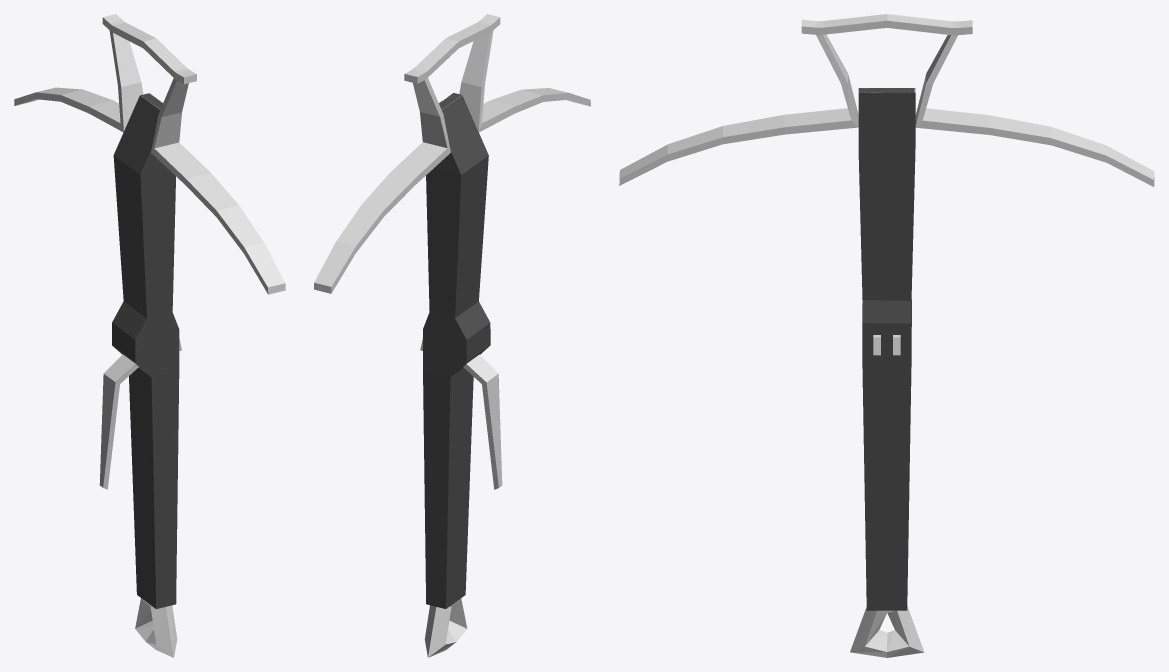
The model's file is steel-crossbow.obj.
3 renders of one model, left to right at view 1: azimuth 30°, elevation 25°; view 2: azimuth 150°, elevation 25°; view 3: azimuth 270°, elevation 25°, orthographic. The views are drawn at different scales.
Visible parts, largest first — view 1: Mesh_Mesh.007_KingdomCross; view 2: Mesh_Mesh.007_KingdomCross; view 3: Mesh_Mesh.007_KingdomCross.
Part boxes in pixels (x1,y1,x2,y2): Mesh_Mesh.007_KingdomCross: [14, 14, 285, 657]; Mesh_Mesh.007_KingdomCross: [314, 14, 590, 657]; Mesh_Mesh.007_KingdomCross: [619, 14, 1154, 657].
Bounding box in the file's own units: 0.2703 × 2.13 × 1.62.
Materials: 2 (2 with a texture image).
